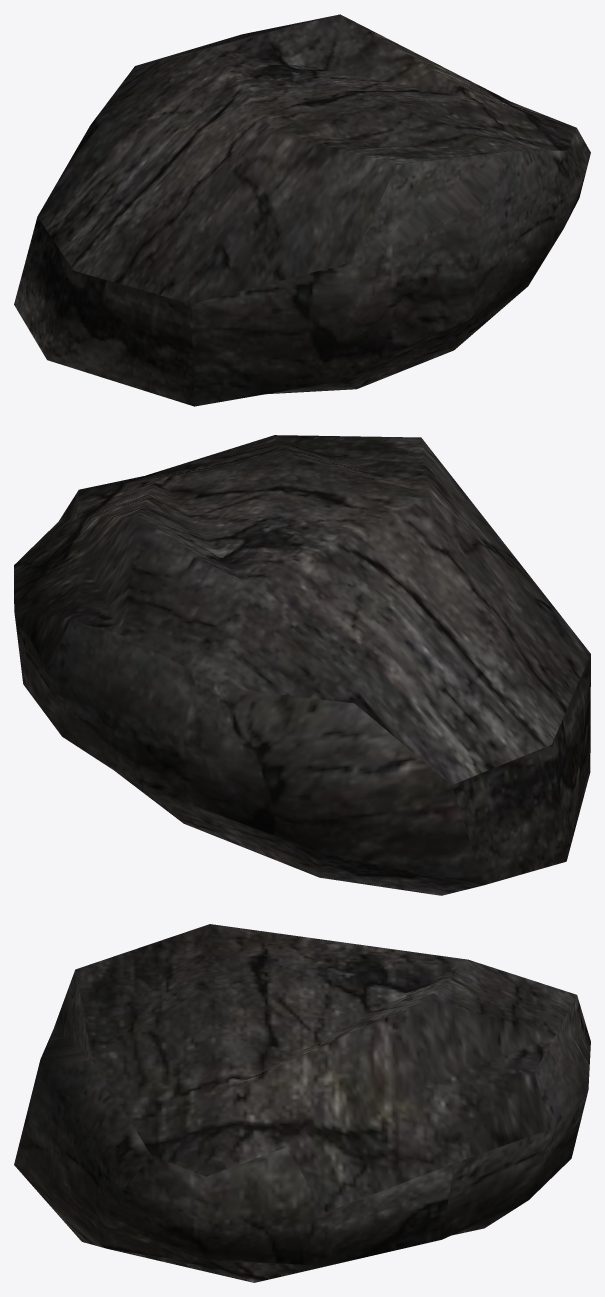
The model's file is Rock 2.glb.
3 views of the same model, one above another, from view 1: azimuth 30°, elevation 25°; view 2: azimuth 150°, elevation 25°; view 3: azimuth 270°, elevation 25° (orthographic). The views are drawn at different scales.
Visible parts, largest first — view 1: rock_2_low; view 2: rock_2_low; view 3: rock_2_low.
Part boxes in pixels (<box>): rock_2_low: <box>14,14,590,406</box>; rock_2_low: <box>14,435,590,895</box>; rock_2_low: <box>14,924,590,1282</box>.
Bounding box in the file's own units: 0.1467 × 0.0773 × 0.1277.
1 material, 1 textured.
